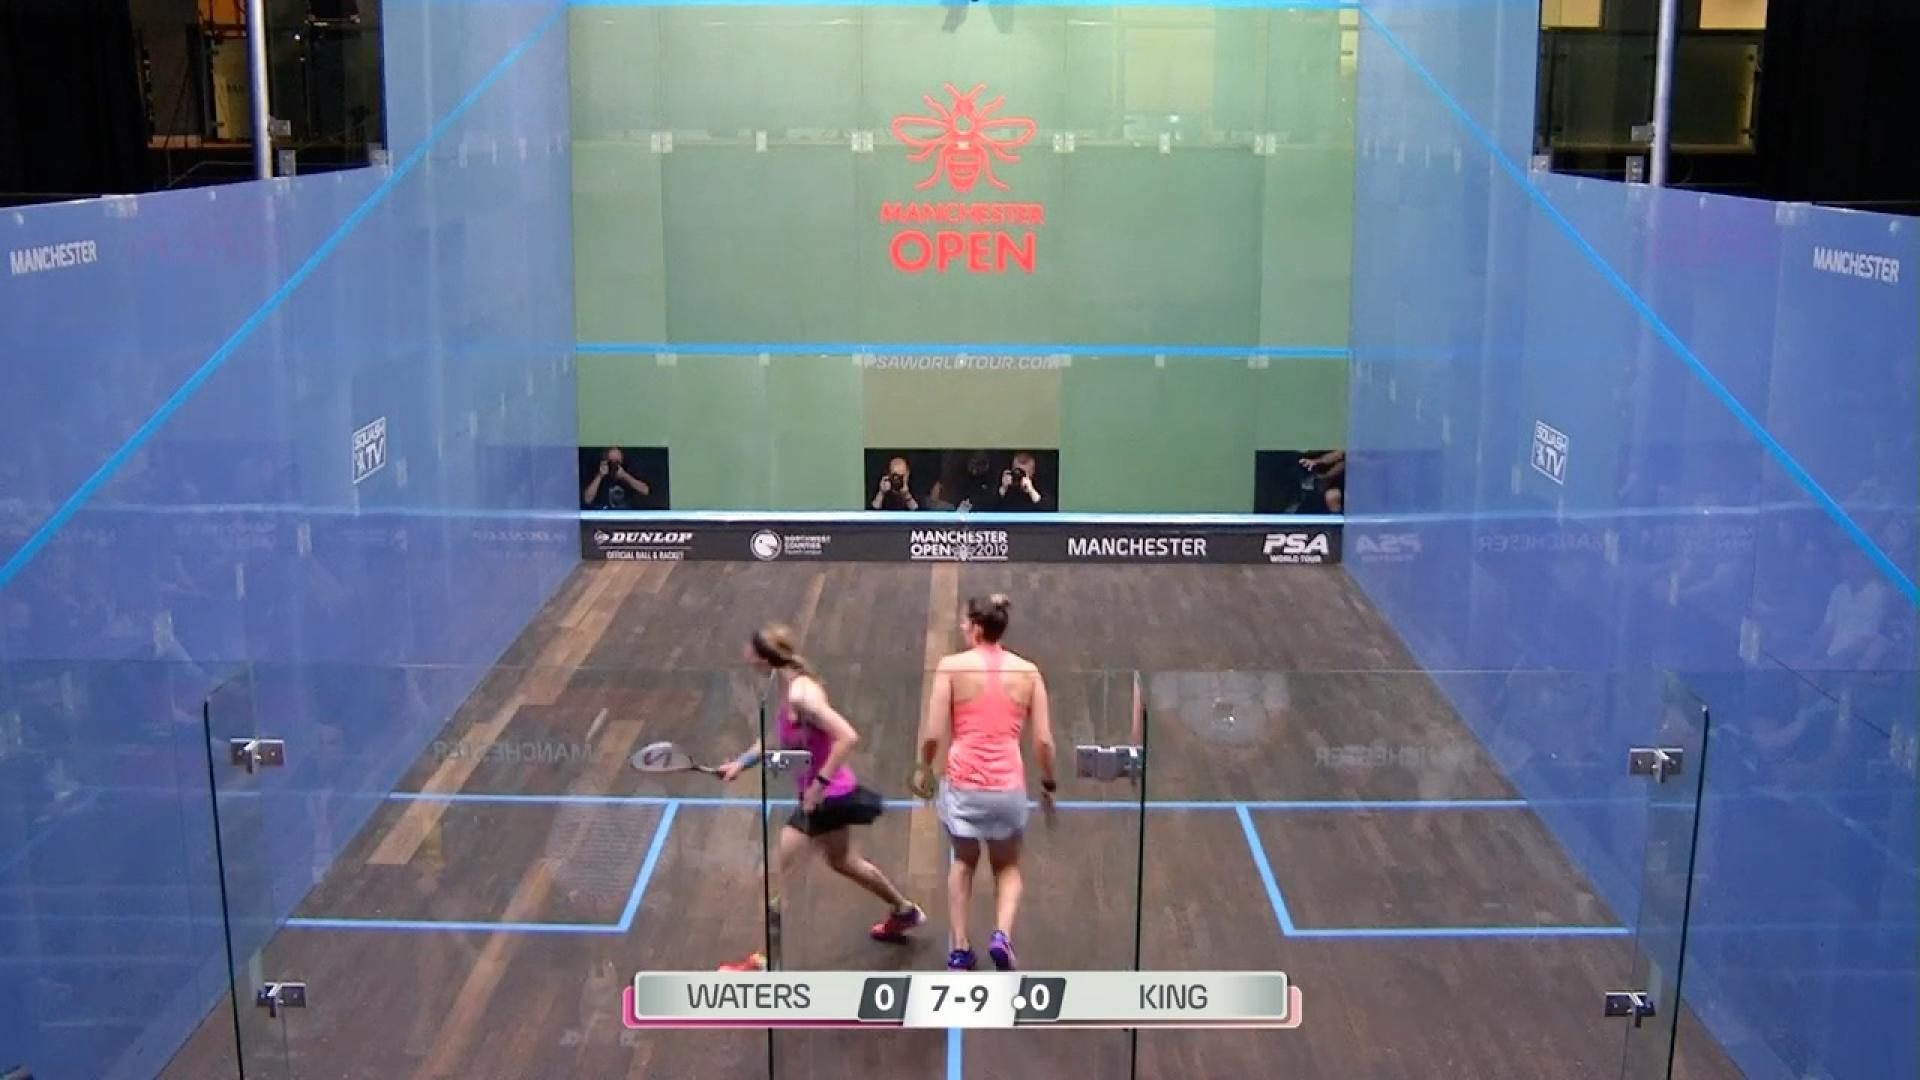Squash-Ball: (575, 700, 628, 757)
